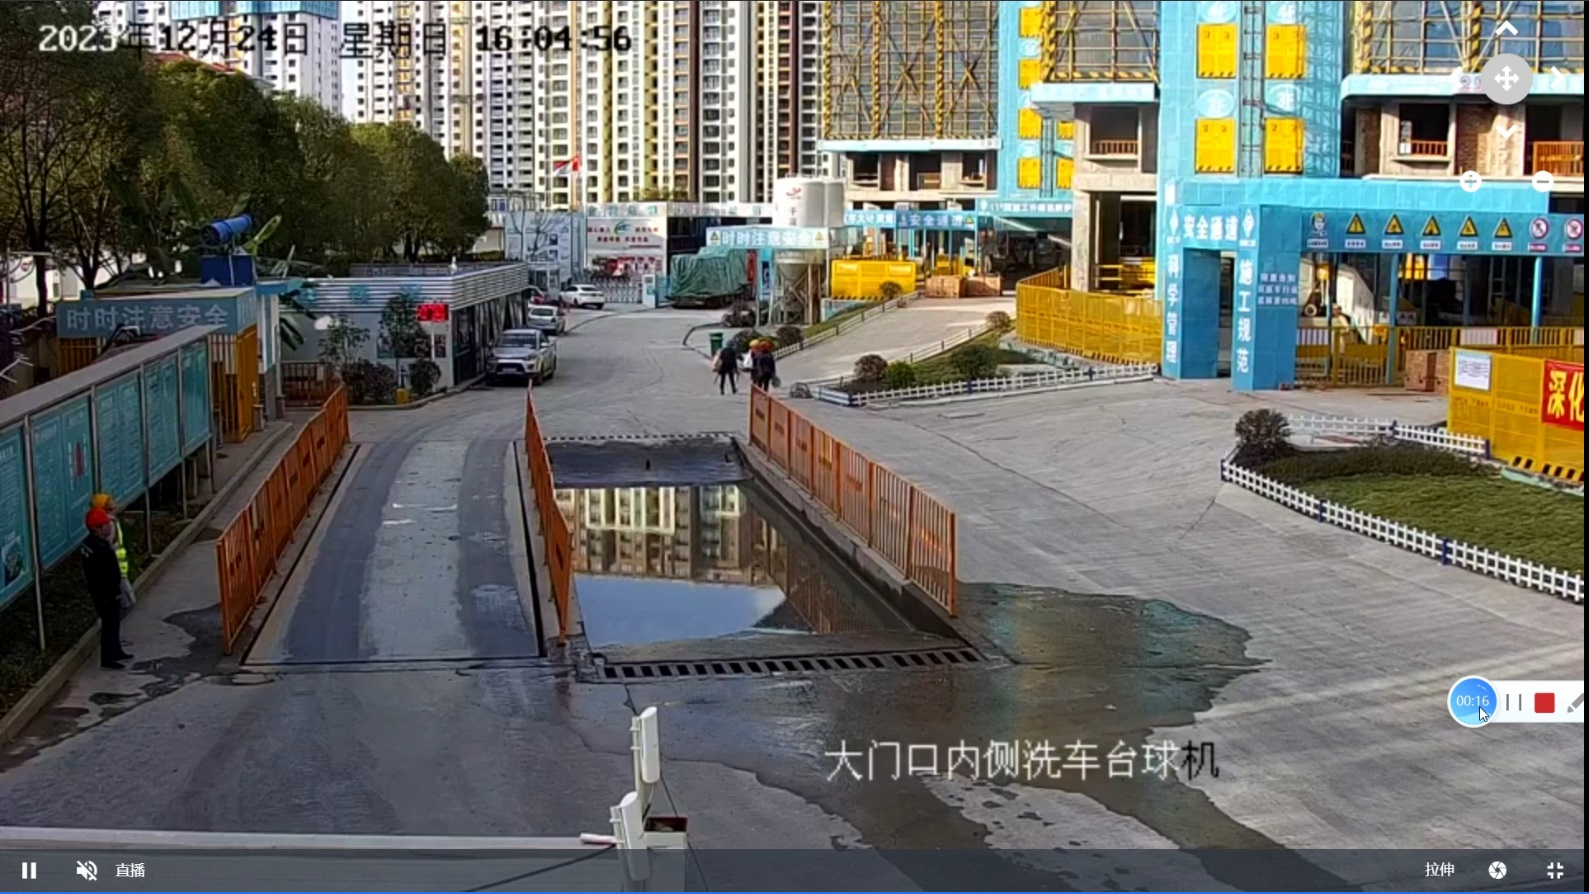person: (82, 509, 134, 675), (89, 491, 139, 623), (712, 338, 739, 396), (756, 340, 780, 397), (742, 336, 760, 389)
